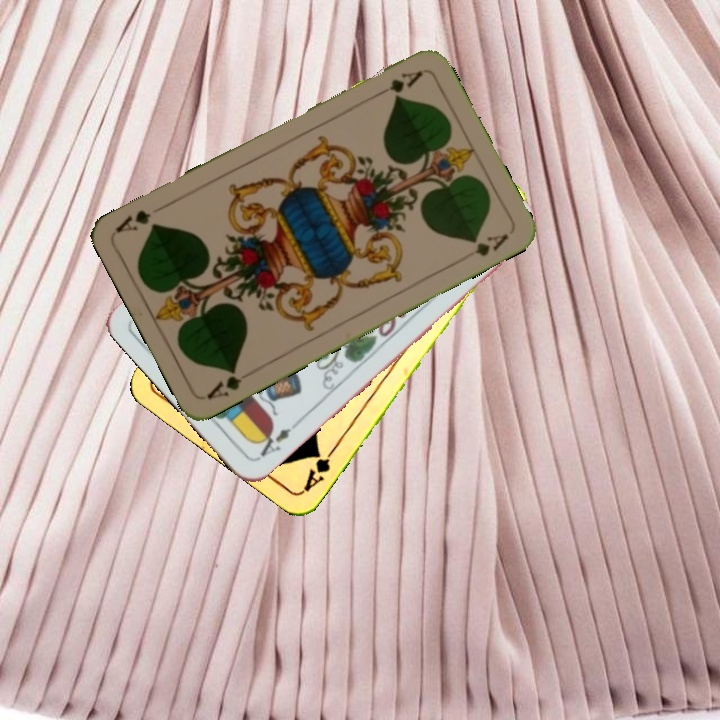EA: (252, 416, 302, 462)
GA: (202, 364, 257, 403), (299, 442, 339, 494), (371, 66, 425, 100)
